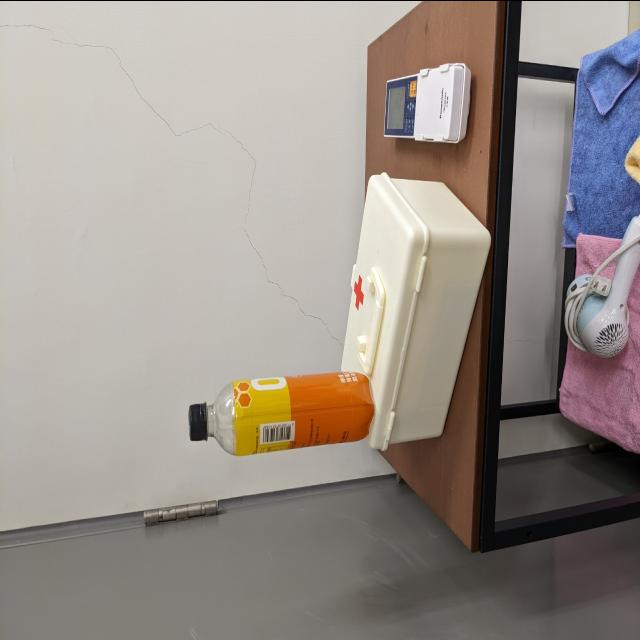寶特瓶: (178, 358, 380, 463)
